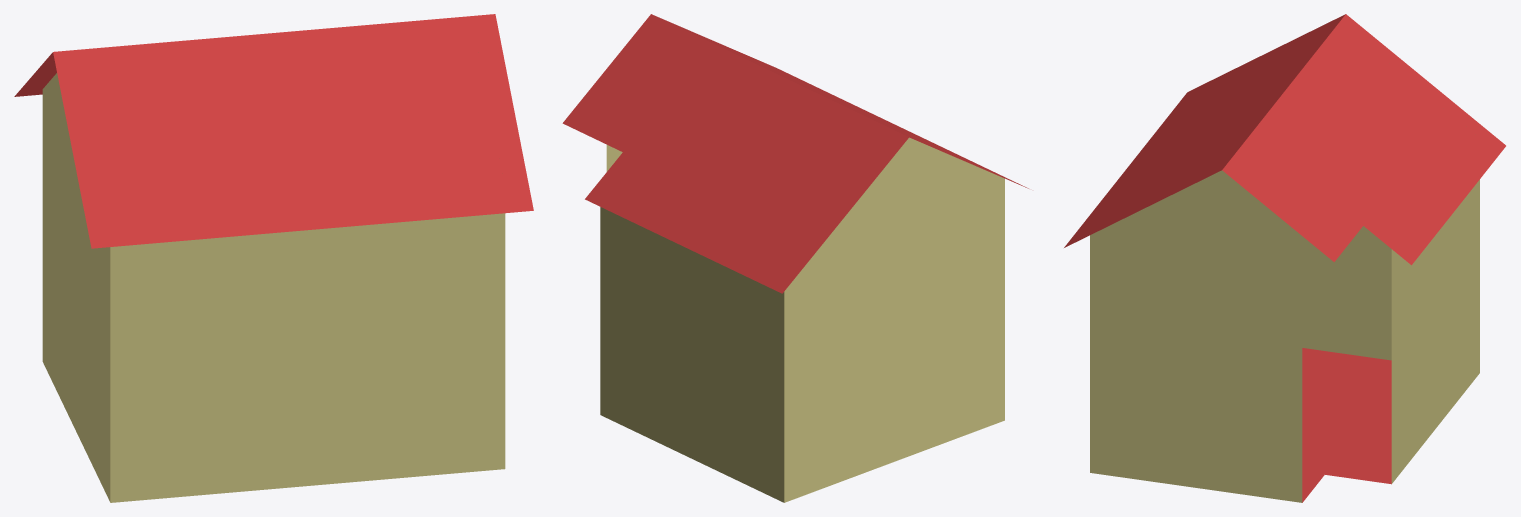
3 views of the same model, side by side, from view 1: azimuth 30°, elevation 25°; view 2: azimuth 150°, elevation 25°; view 3: azimuth 270°, elevation 25° (orthographic). The views are drawn at different scales.
Size of the model in its own units: 16.51 by 15.88 by 13.08.
